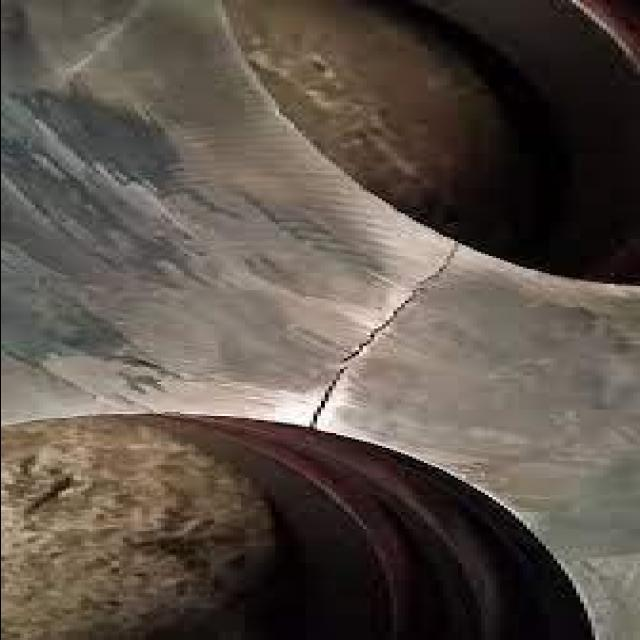defect: (302, 236, 460, 434)
